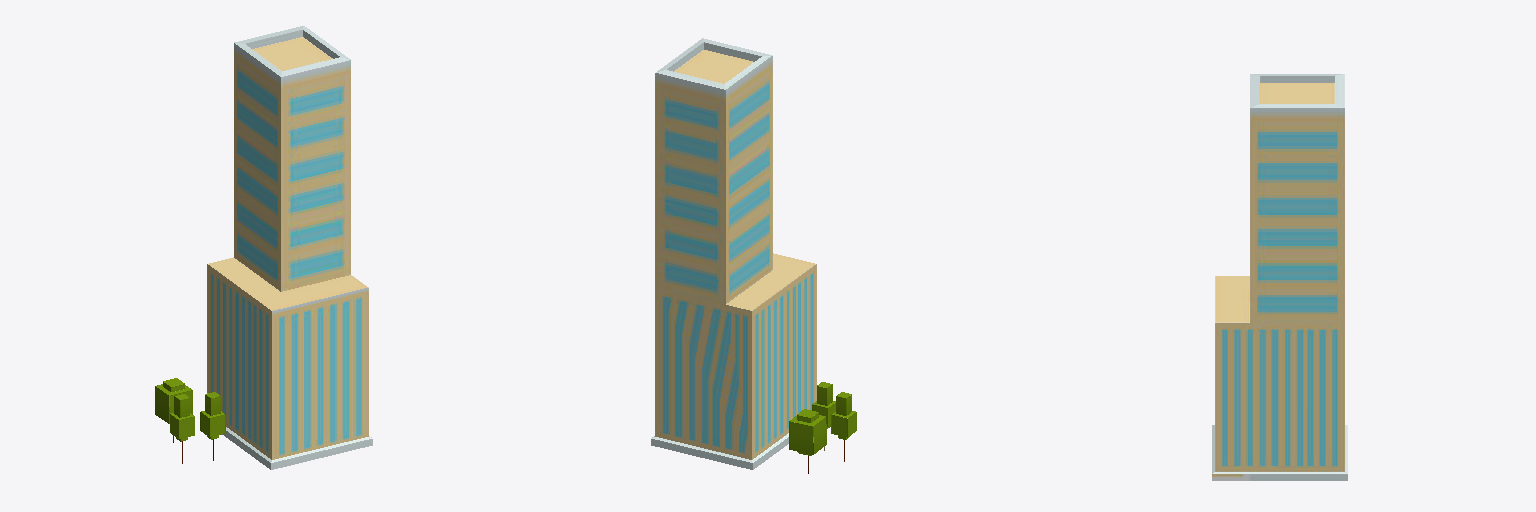
The picture shows the model from 3 angles: view 1: azimuth 30°, elevation 25°; view 2: azimuth 150°, elevation 25°; view 3: azimuth 270°, elevation 25°; orthographic projection.
Parts seen in each view (by area): view 1: business_coworking_Mesh.4798, Tree_3_499_2.026_Mesh.299, Tree_2_3_61.040_Mesh.301, Tree_2_3_61.039_Mesh.300; view 2: business_coworking_Mesh.4798, Tree_3_499_2.026_Mesh.299, Tree_2_3_61.039_Mesh.300, Tree_2_3_61.040_Mesh.301; view 3: business_coworking_Mesh.4798.
Boxes of the visible parts, box(x1,y1,x2,y2) form: business_coworking_Mesh.4798: box(207, 26, 372, 469); Tree_3_499_2.026_Mesh.299: box(155, 378, 192, 442); Tree_2_3_61.040_Mesh.301: box(200, 392, 225, 460); Tree_2_3_61.039_Mesh.300: box(170, 394, 194, 463); business_coworking_Mesh.4798: box(651, 38, 816, 469); Tree_3_499_2.026_Mesh.299: box(789, 409, 826, 473); Tree_2_3_61.039_Mesh.300: box(831, 392, 856, 461); Tree_2_3_61.040_Mesh.301: box(812, 382, 835, 450); business_coworking_Mesh.4798: box(1212, 74, 1347, 480).
Size of the model in its own units: 1.64 by 3.55 by 1.16.
3 materials, 3 textured.